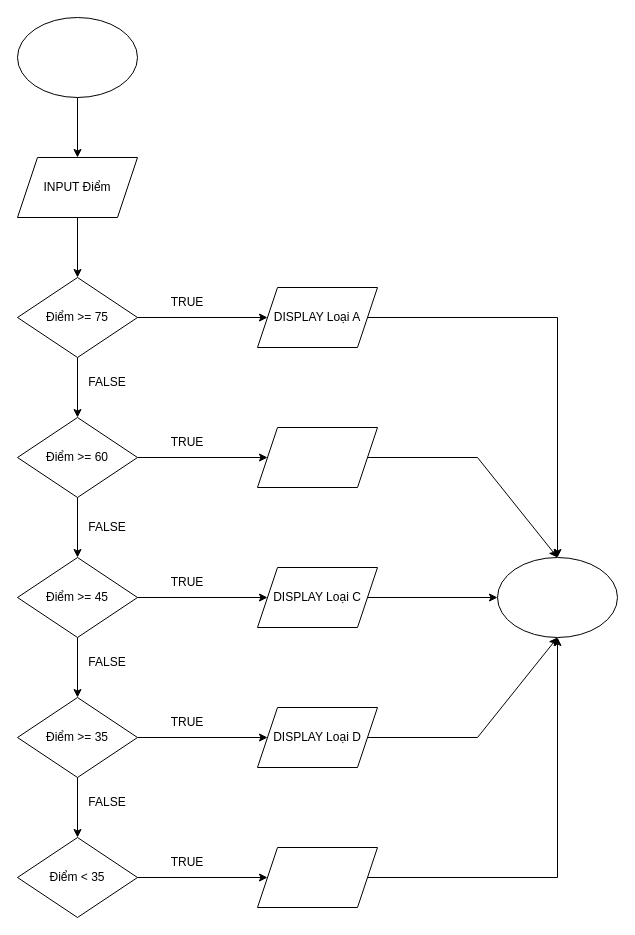
Image size: 635x935. Some labels were removed from this diagram. The centre of each missing label's shape, as x and y in pixels:
"BEGIN" belongs at (x=77, y=57).
"DISPLAY Loại B" belongs at (x=317, y=457).
"DISPLAY Loại E" belongs at (x=317, y=877).
"END" belongs at (x=557, y=597).
